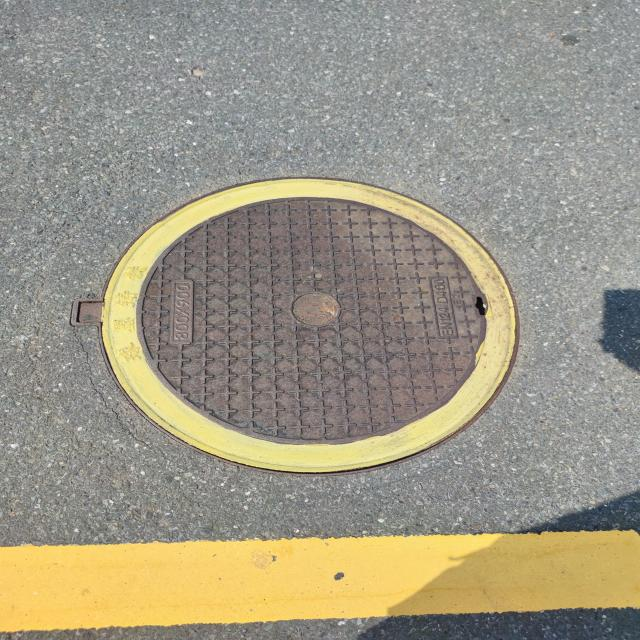Good: (72, 172, 524, 480)
